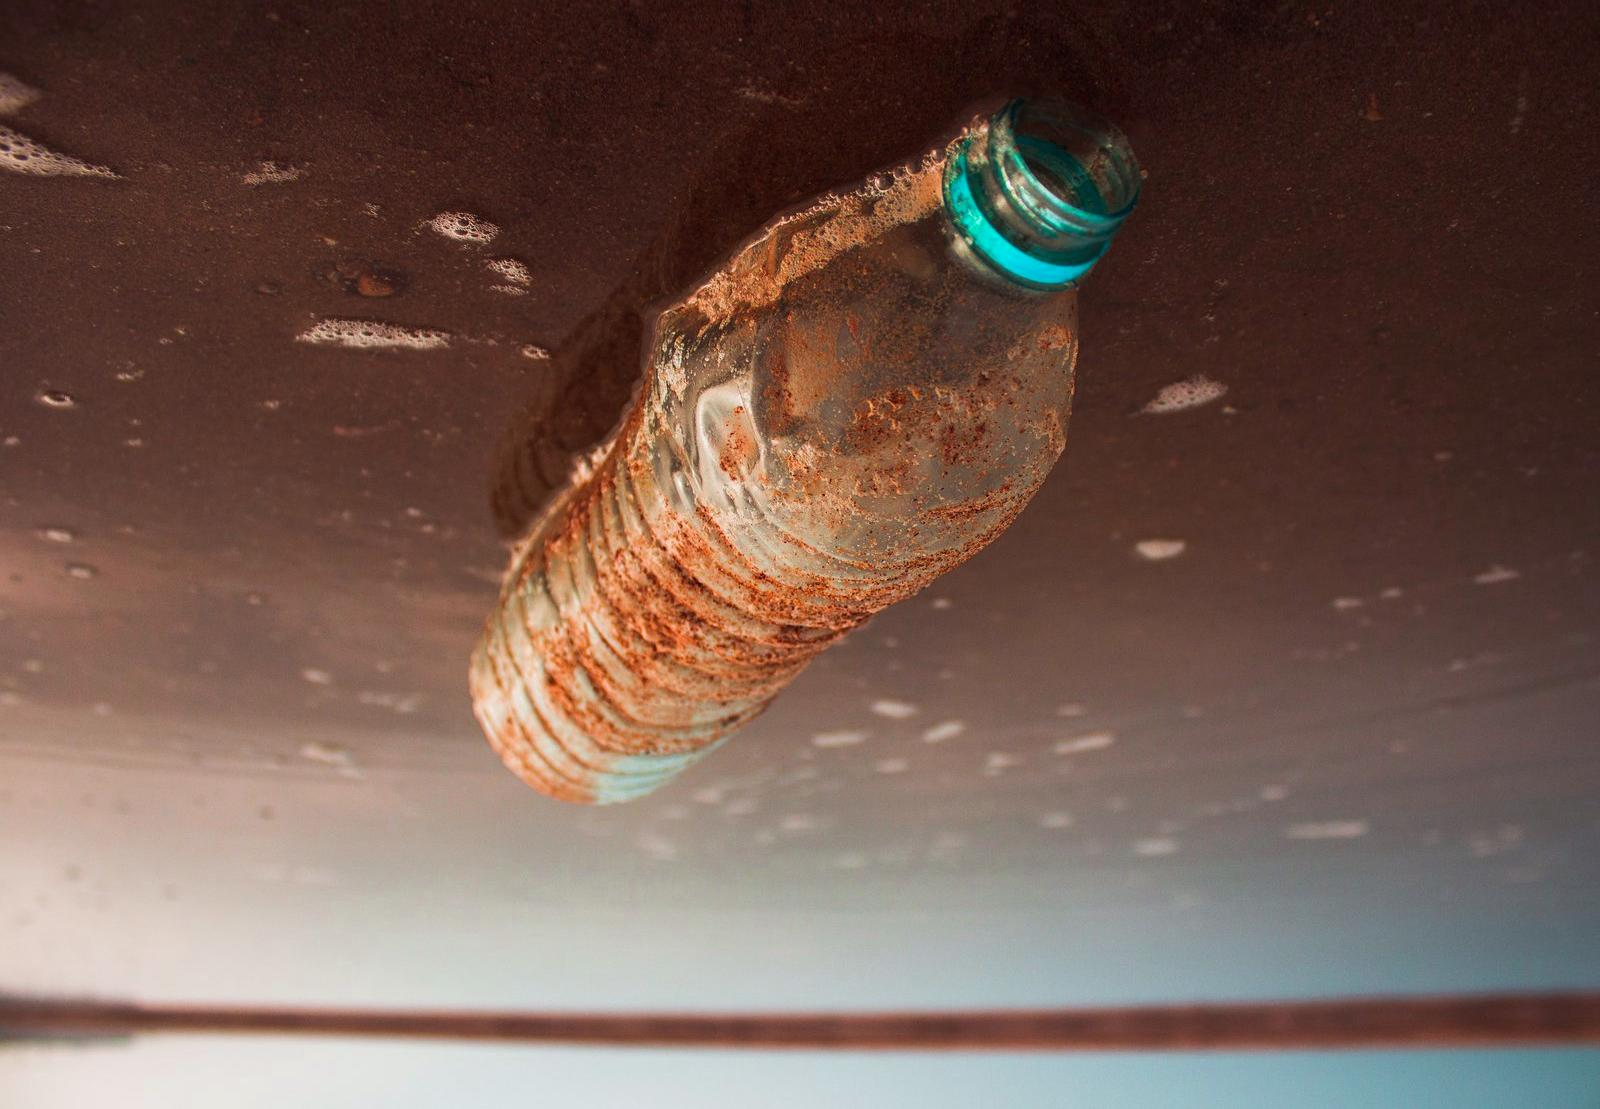Plastic: (463, 100, 1153, 816)
